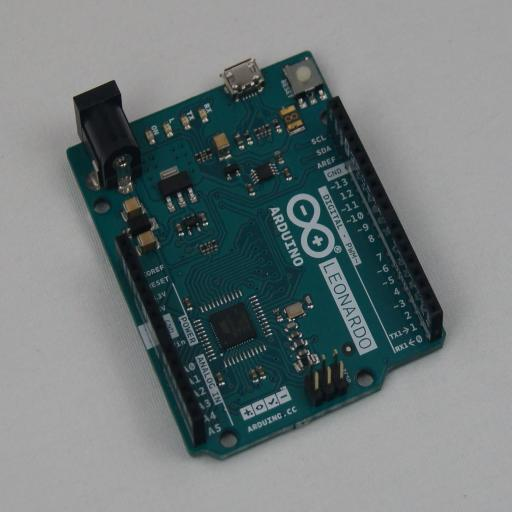Arduino Leonardo: (66, 50, 446, 461)
